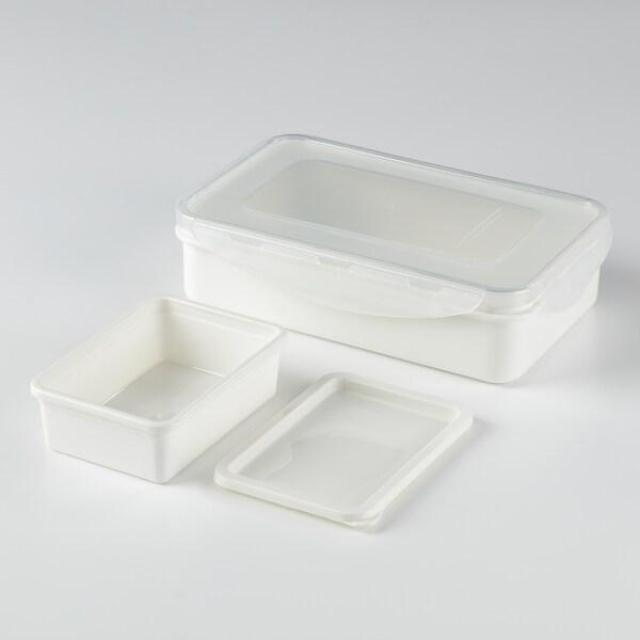styrofoam: (173, 130, 613, 384), (29, 294, 286, 484)
